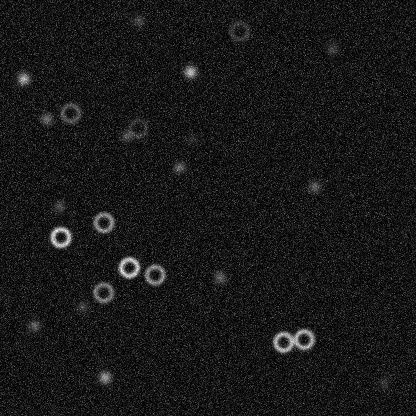Ring: (91, 210, 115, 234), (58, 100, 82, 124), (227, 18, 251, 42), (142, 262, 166, 286), (291, 327, 315, 351), (116, 255, 140, 279), (48, 225, 72, 249), (125, 115, 149, 139), (271, 329, 295, 353), (91, 280, 115, 304)
Spot: (96, 369, 112, 385), (38, 110, 54, 126), (74, 298, 90, 314), (183, 130, 199, 146), (51, 198, 67, 214), (324, 40, 340, 56), (376, 374, 392, 390), (15, 70, 31, 86), (26, 317, 42, 333), (306, 178, 322, 194), (211, 269, 227, 285), (118, 127, 134, 143), (130, 12, 146, 28), (182, 63, 198, 79), (171, 159, 187, 175)
